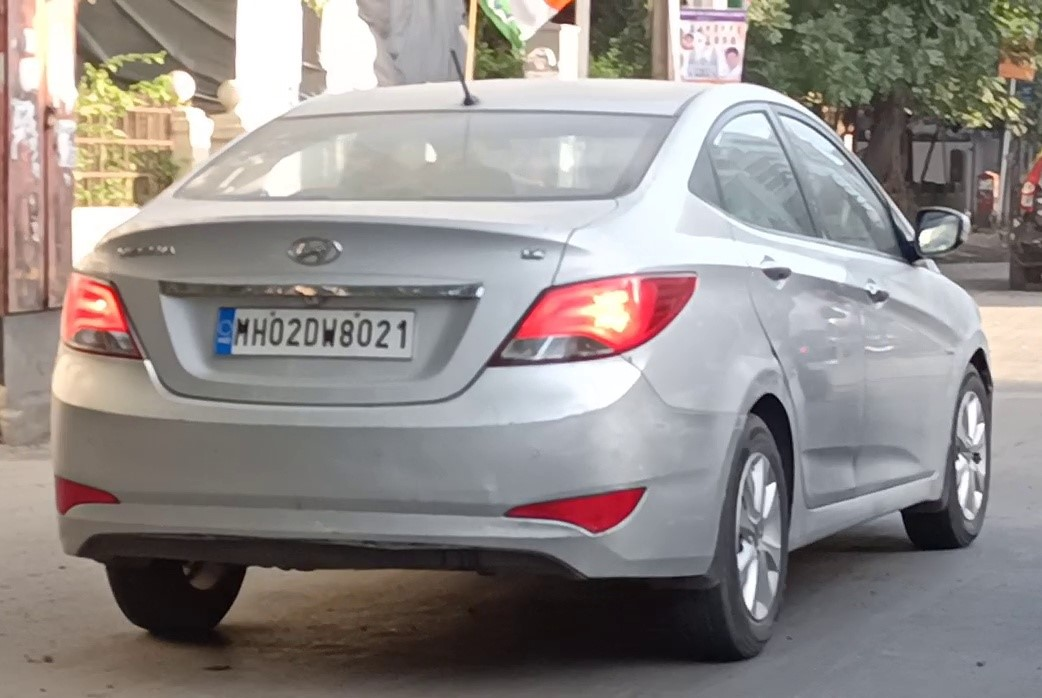MH02DW8021: (216, 304, 415, 356)
